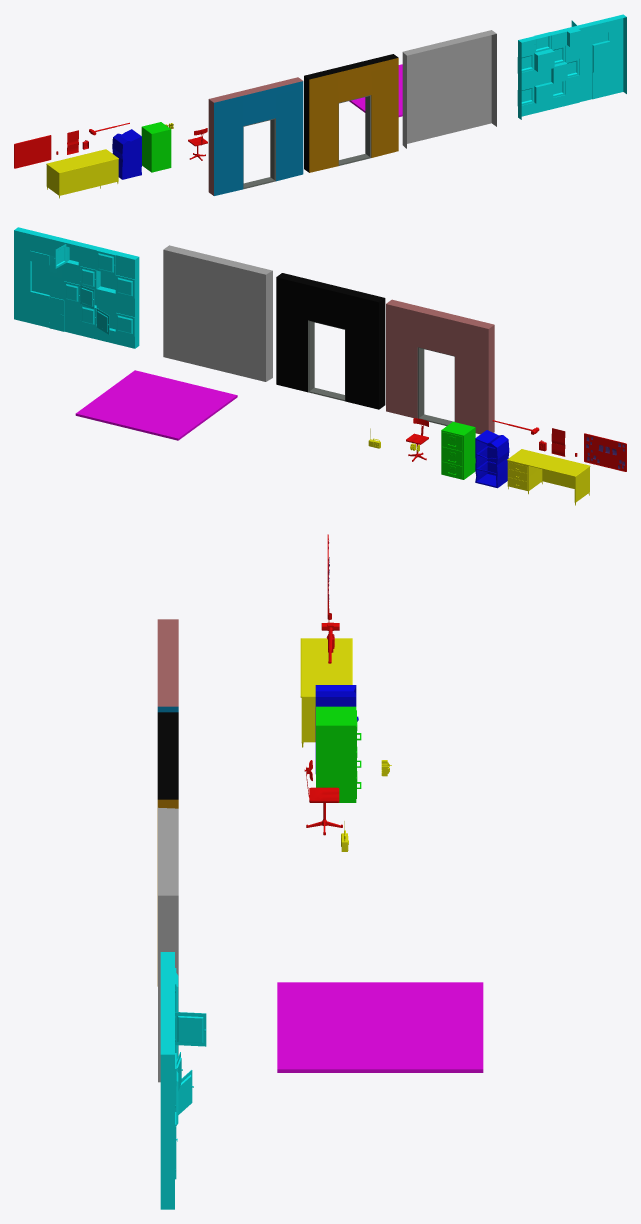
The model's file is Misho objs V4.fbx.
The picture shows the model from 3 angles, top to bottom: view 1: azimuth 30°, elevation 25°; view 2: azimuth 150°, elevation 25°; view 3: azimuth 270°, elevation 25°; orthographic projection. The views are drawn at different scales.
Visible parts, largest first — view 1: Wall, Electrical_panel, Wall_doorway, Wall_doorway1, Desk_body, Cabinet, Cabinet_destroyed, Board, Floor; view 2: Wall, Electrical_panel, Wall_doorway1, Wall_doorway, Floor, Desk_body, Cabinet, Cabinet_destroyed, Board; view 3: Floor, Electrical_panel, Cabinet, Wall, Desk_body, Wall_doorway1, Wall_doorway, Panel_open_top, Cabinet_destroyed.
Part boxes in pixels (x1,y1,x2,y2): Wall: (402, 30, 496, 148); Electrical_panel: (517, 14, 626, 119); Wall_doorway: (208, 77, 303, 195); Wall_doorway1: (304, 54, 398, 172); Desk_body: (46, 149, 118, 195); Cabinet: (141, 122, 171, 172); Cabinet_destroyed: (112, 129, 141, 179); Board: (14, 135, 51, 168); Floor: (349, 64, 402, 116); Wall: (163, 245, 272, 381); Electrical_panel: (14, 227, 139, 348); Wall_doorway1: (276, 273, 385, 409); Wall_doorway: (386, 299, 494, 434); Floor: (75, 370, 237, 440); Desk_body: (507, 449, 590, 502); Cabinet: (441, 421, 475, 479); Cabinet_destroyed: (475, 430, 509, 488); Board: (584, 433, 626, 471); Floor: (277, 982, 483, 1072); Electrical_panel: (160, 952, 178, 1209); Cabinet: (316, 706, 356, 802); Wall: (158, 807, 178, 1082); Desk_body: (300, 638, 352, 742); Wall_doorway1: (157, 712, 178, 986); Wall_doorway: (157, 619, 178, 712); Panel_open_top: (175, 1012, 206, 1046); Cabinet_destroyed: (315, 685, 358, 773).
Size of the model in its own units: 1930 by 303 by 477.
